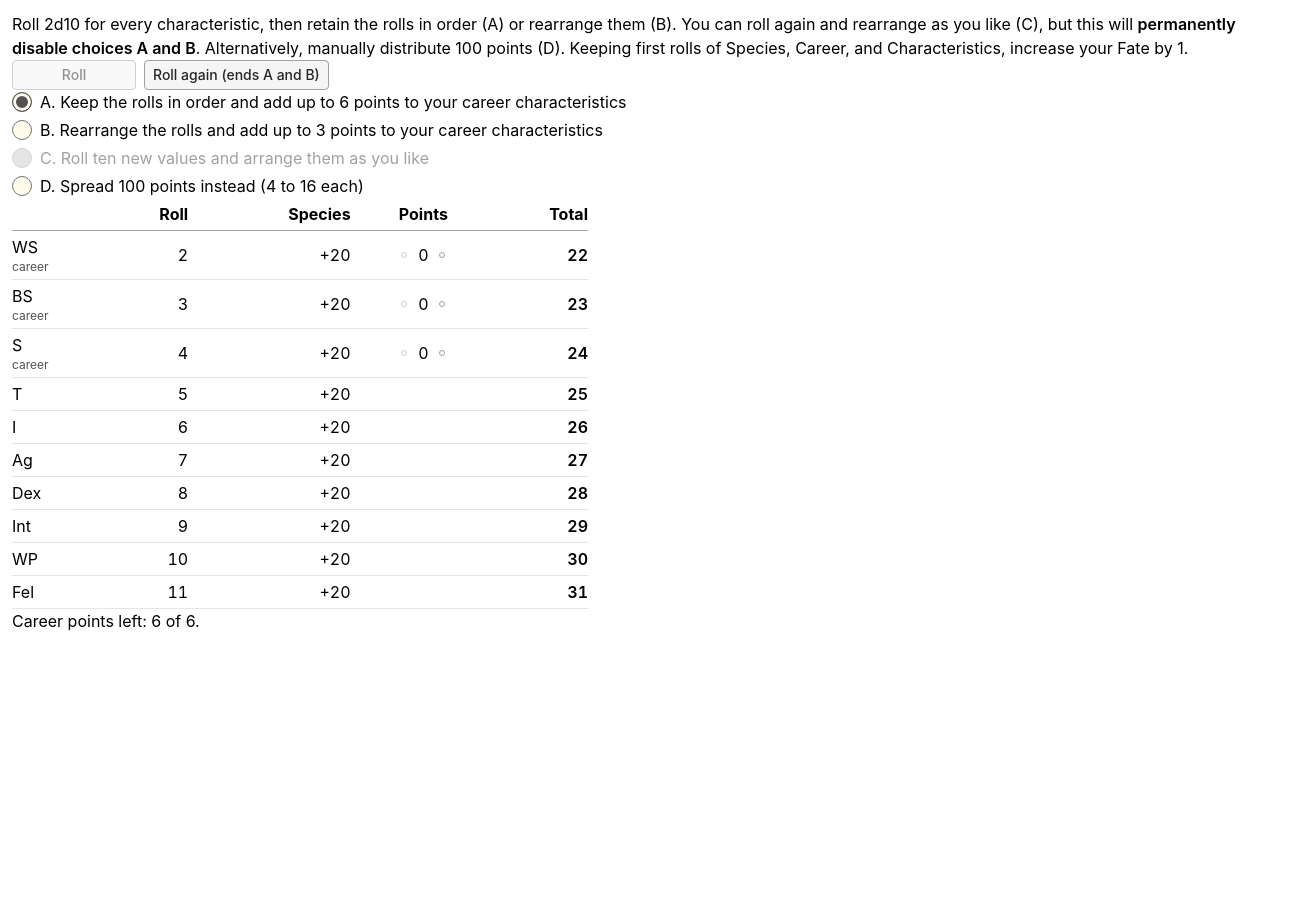
it: GuidedCharacteristics5e › rolling ten new values ends A and B
Click the button "Roll again (ends A and B)": [236, 75] box x1=144 y1=60 x2=329 y2=90
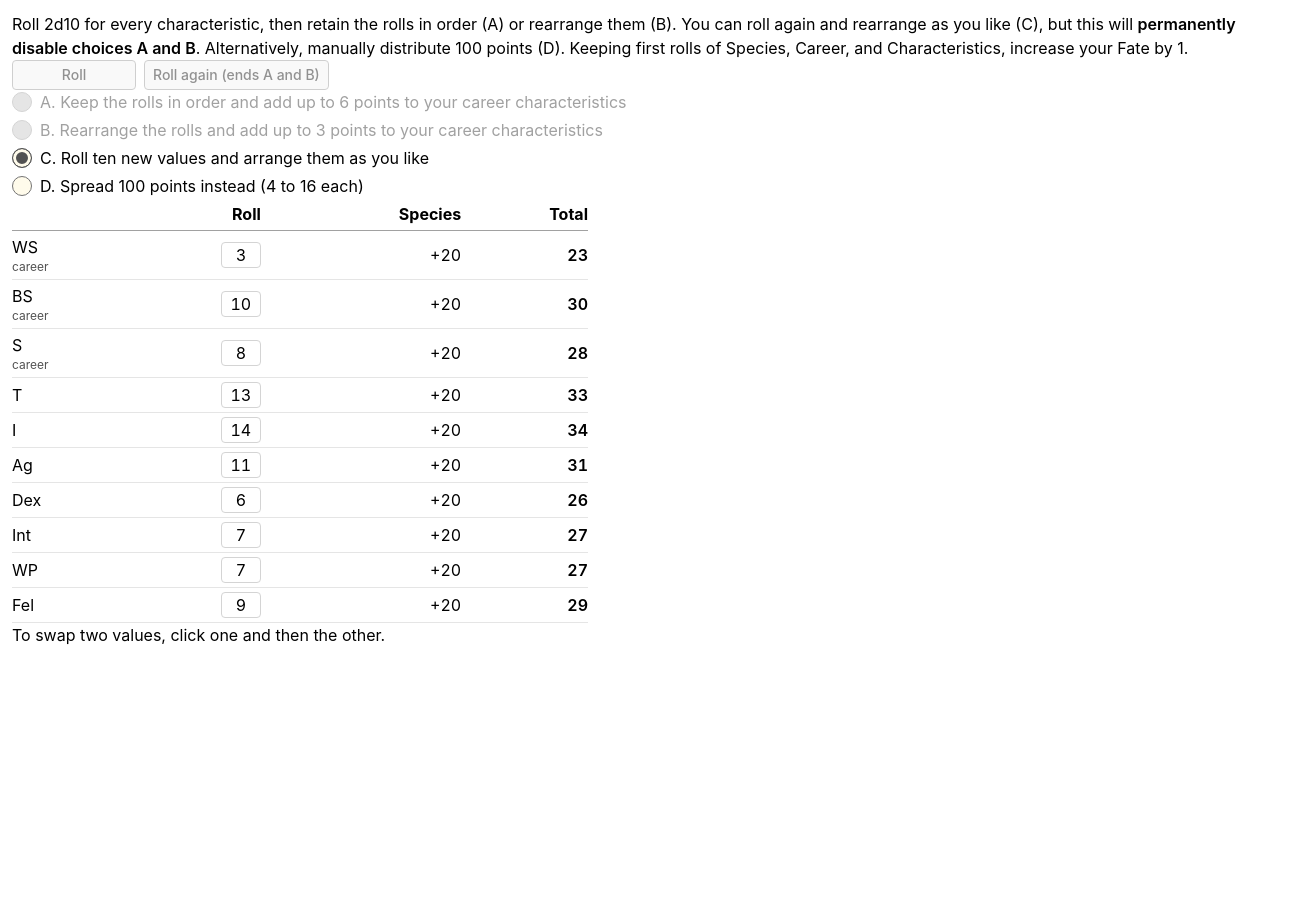
Check: the 1st radio button is disabled, box x1=12 y1=92 x2=32 y2=112
Check: the 2nd radio button is disabled, box x1=12 y1=120 x2=32 y2=140
